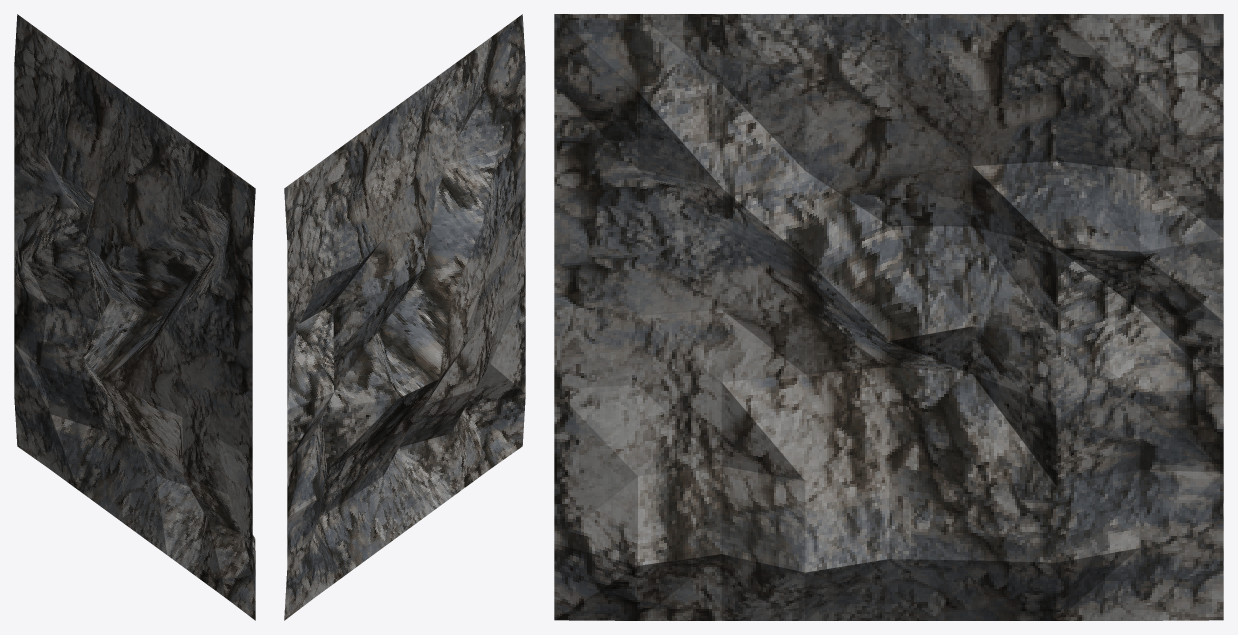
The model's file is 01_wall_01_seamless.glb.
The picture shows the model from 3 angles, left to right: view 1: azimuth 30°, elevation 25°; view 2: azimuth 150°, elevation 25°; view 3: azimuth 270°, elevation 25°; orthographic projection. The views are drawn at different scales.
Parts seen in each view (by area): view 1: 01_wall_01_seamless; view 2: 01_wall_01_seamless; view 3: 01_wall_01_seamless.
Boxes of the visible parts, bbox=[...] form: 01_wall_01_seamless: bbox=[14, 14, 255, 620]; 01_wall_01_seamless: bbox=[284, 14, 525, 620]; 01_wall_01_seamless: bbox=[554, 14, 1223, 620].
Bounding box in the file's own units: 2.9 × 16 × 16.
1 material, 1 textured.
